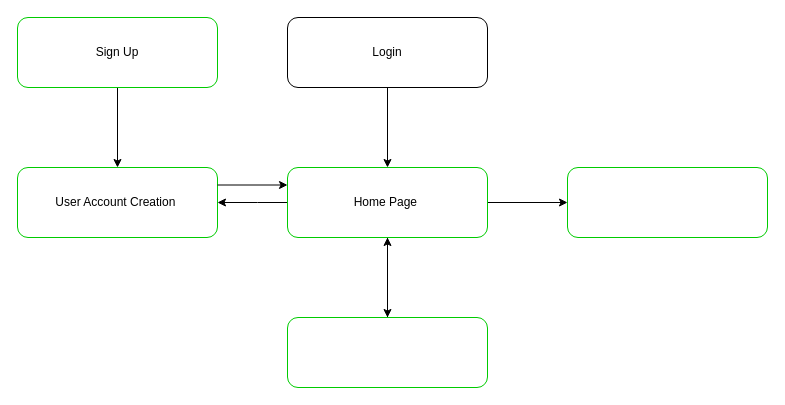
This 785x405 diagram has some shape labels left out. The centre of each missing label's shape, as x and y in pixels:
"Enter Expenses" goes at point (387, 352).
"Logout" goes at point (667, 202).
